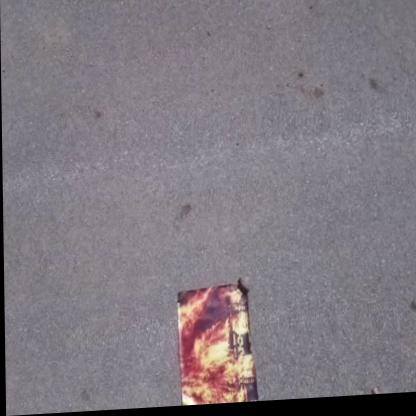fire-poster: (174, 279, 258, 407)
